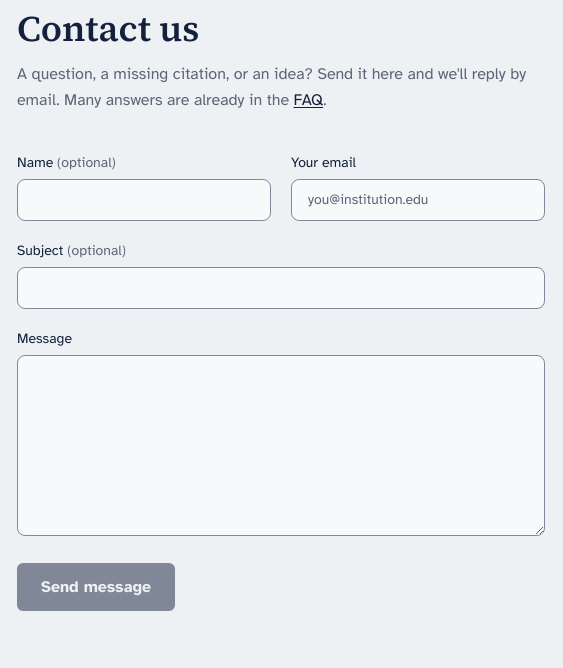
Test: Contact page › shows the API's error and keeps the form
Type "ada@uni.edu" into the field labelled "Your email" at x=418, y=200, box [291, 179, 545, 221]
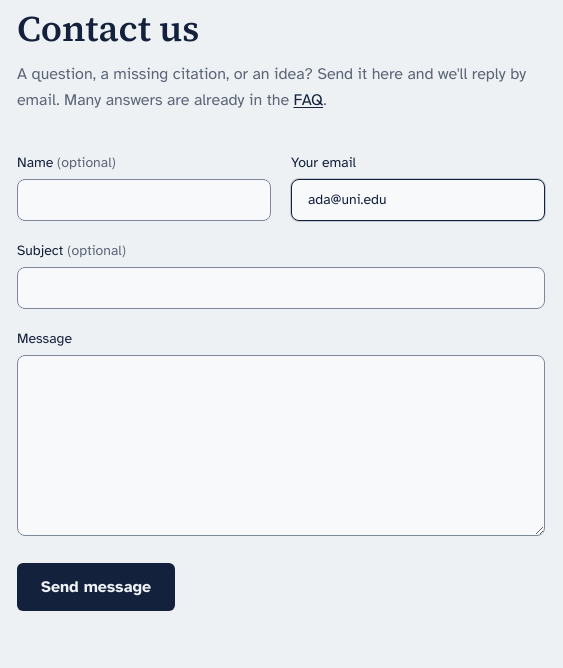
Type "My paper's citations look wrong." into the text box labelled "Message" at x=281, y=446, box [17, 355, 545, 536]
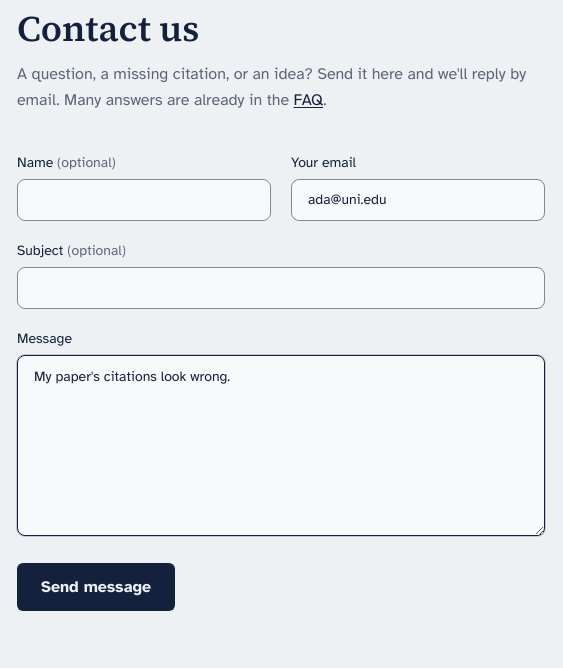
Click the button "Send message" at x=96, y=587, box [17, 563, 175, 611]
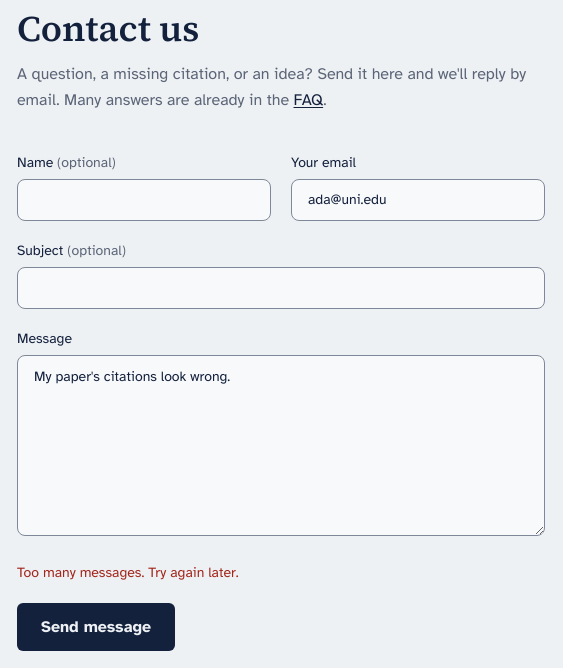
Expected: the button "Send message" is enabled, [17, 603, 175, 651]
Expected: the message shows "Too many messages.", [17, 564, 239, 581]
